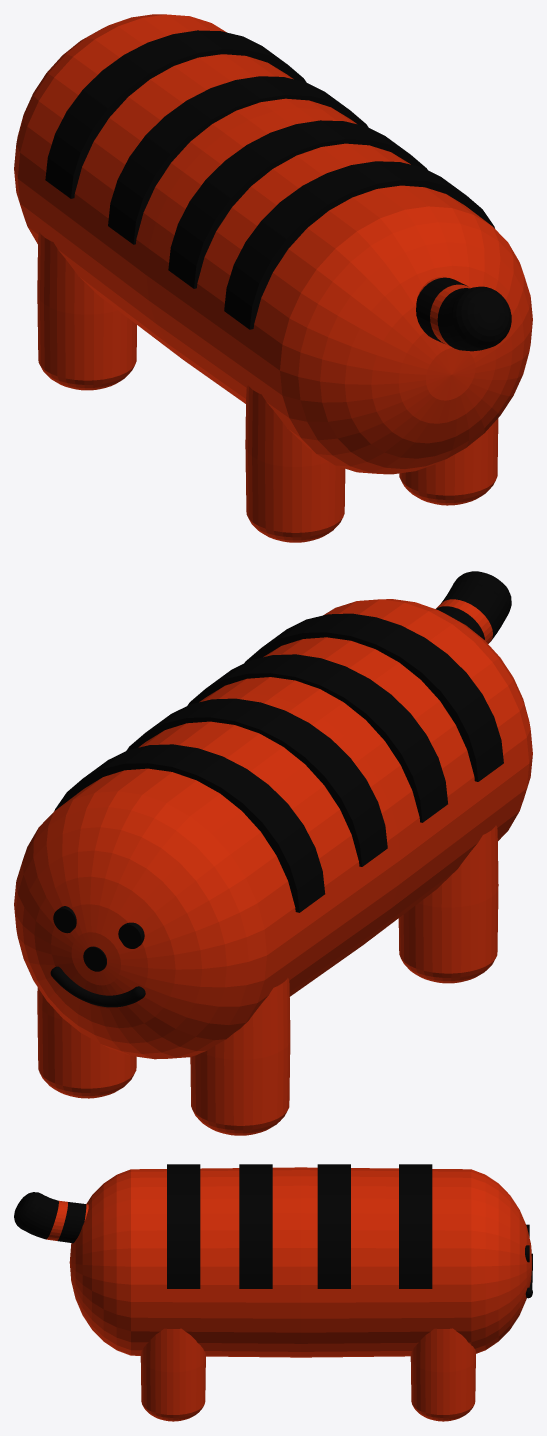
Rendered from cheese_puff.obj.
3 views of the same model, one above another, from view 1: azimuth 30°, elevation 25°; view 2: azimuth 150°, elevation 25°; view 3: azimuth 270°, elevation 25° (orthographic). The views are drawn at different scales.
Visible parts, largest first — view 1: Cylinder.005; view 2: Cylinder.005; view 3: Cylinder.005.
Boxes of the visible parts, x1,y1,x2,y2 form: Cylinder.005: (14,14,532,542); Cylinder.005: (14,571,532,1135); Cylinder.005: (14,1164,532,1421).
Bounding box in the file's own units: 1.86 × 2.36 × 5.07.
